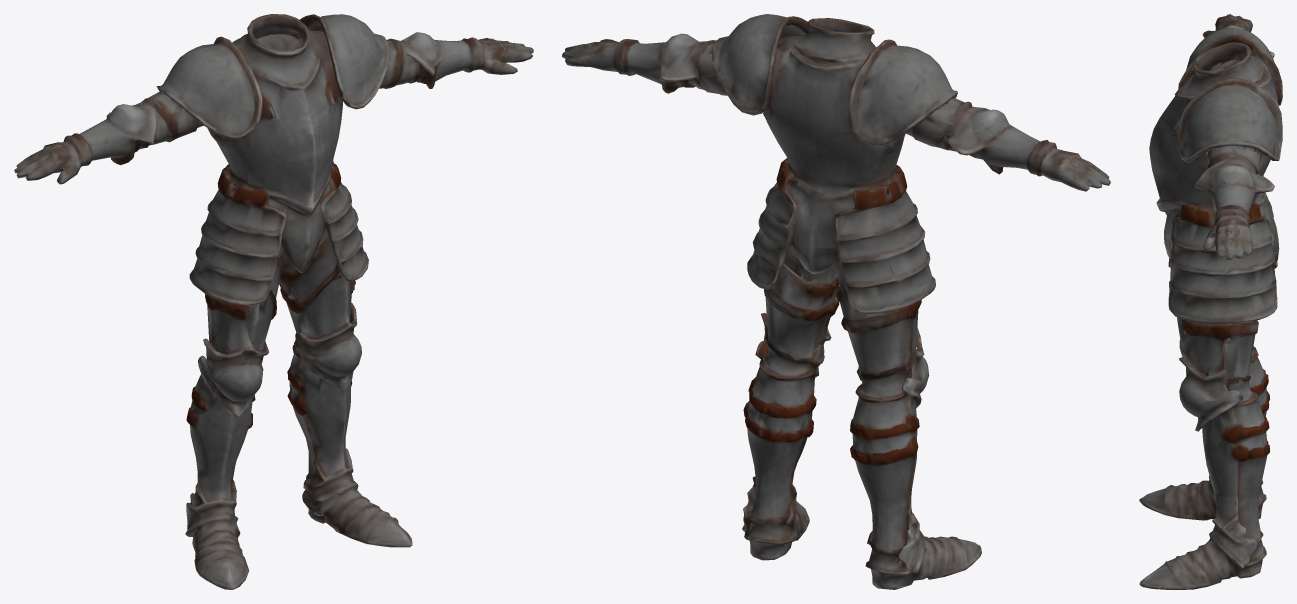
File: plate-suit-20k-v10.glb
The picture shows the model from 3 angles, left to right: view 1: azimuth 30°, elevation 25°; view 2: azimuth 150°, elevation 25°; view 3: azimuth 270°, elevation 25°; orthographic projection. The views are drawn at different scales.
Parts seen in each view (by area): view 1: plate-suit-v10-20k-v1; view 2: plate-suit-v10-20k-v1; view 3: plate-suit-v10-20k-v1.
Part boxes in pixels (box(x1,y1,x2,y2)): plate-suit-v10-20k-v1: box(14, 14, 533, 589); plate-suit-v10-20k-v1: box(562, 14, 1110, 589); plate-suit-v10-20k-v1: box(1139, 14, 1282, 589).
Size of the model in its own units: 1 by 0.9523 by 0.2513.
1 material, 1 textured.
